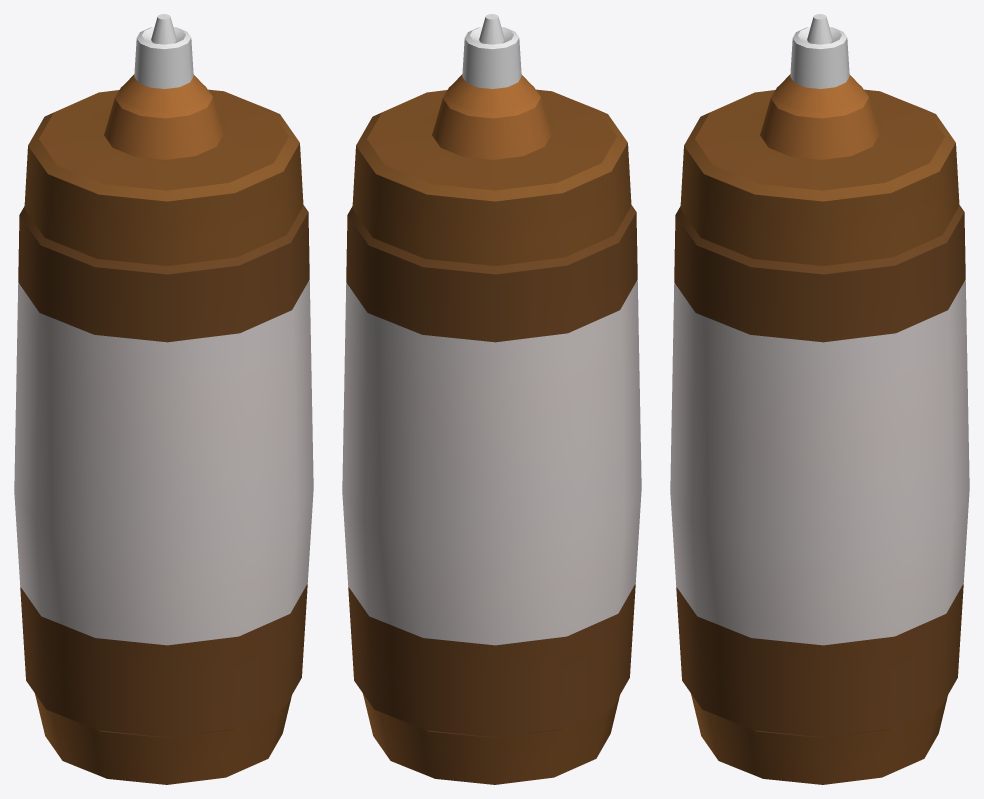
File: Cream_Choco.glb
3 views of the same model, side by side, from view 1: azimuth 30°, elevation 25°; view 2: azimuth 150°, elevation 25°; view 3: azimuth 270°, elevation 25° (orthographic).
Parts seen in each view (by area): view 1: Cream_Choco; view 2: Cream_Choco; view 3: Cream_Choco.
Part boxes in pixels (left/top/right/bottom): Cream_Choco: left=14, top=14, right=313, bottom=784; Cream_Choco: left=342, top=14, right=641, bottom=784; Cream_Choco: left=670, top=14, right=969, bottom=784.
Bounding box in the file's own units: 0.1114 × 0.2996 × 0.1114.
1 material, 1 textured.
